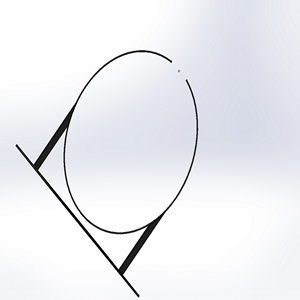circle: (16, 47, 200, 298)
